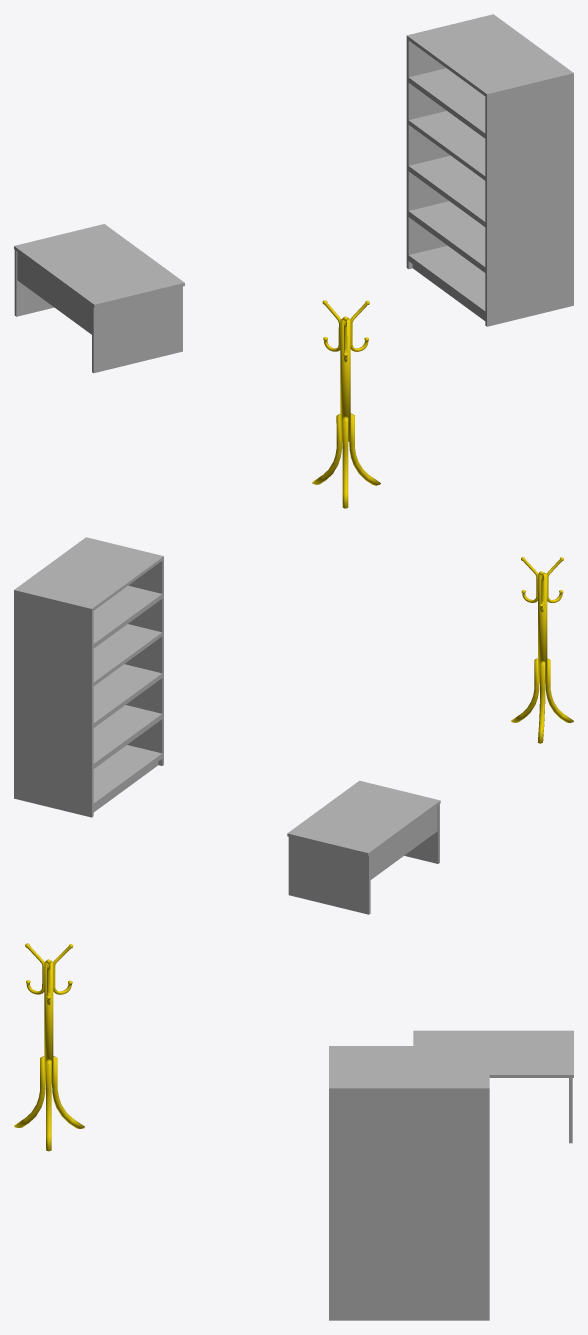
The model's file is Furniture.fbx.
3 views of the same model, one above another, from view 1: azimuth 30°, elevation 25°; view 2: azimuth 150°, elevation 25°; view 3: azimuth 270°, elevation 25° (orthographic). The views are drawn at different scales.
Visible parts, largest first — view 1: Armário, Cube.005, Cylinder.002; view 2: Armário, Cube.005, Cylinder.002; view 3: Armário, Cube.005, Cylinder.002.
Part boxes in pixels (x1,y1,x2,y2): Armário: (406, 14, 573, 326); Cube.005: (14, 224, 184, 373); Cylinder.002: (312, 300, 380, 508); Armário: (14, 537, 163, 817); Cube.005: (287, 780, 440, 914); Cylinder.002: (511, 557, 573, 743); Armário: (329, 1046, 489, 1320); Cube.005: (413, 1030, 573, 1143); Cylinder.002: (14, 943, 84, 1151).
Bounding box in the file's own units: 628 × 319 × 697.
